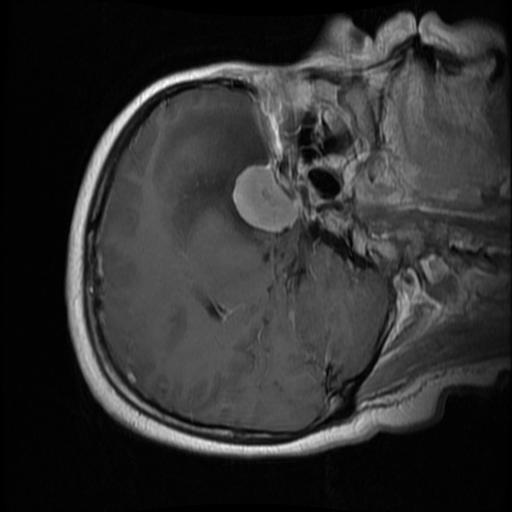meningioma: (232, 164, 301, 232)
